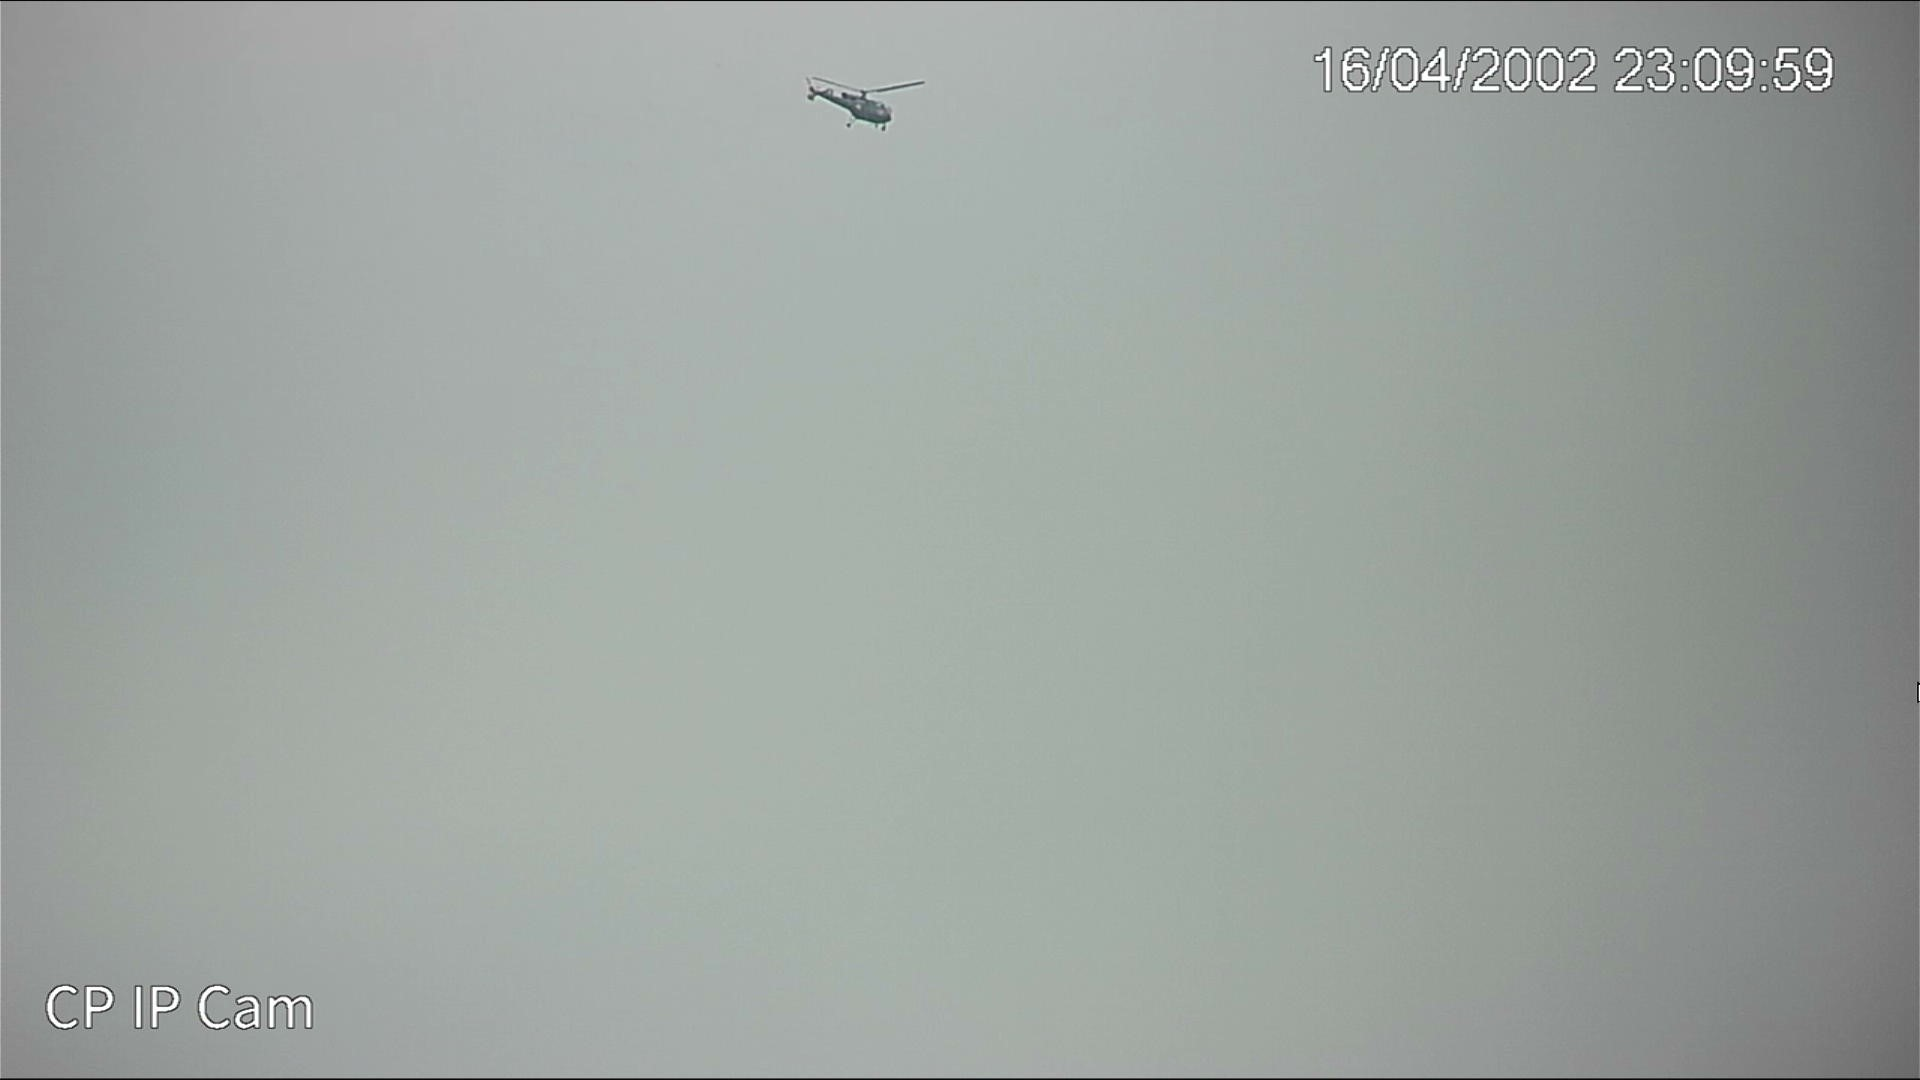SU_30: (796, 73, 905, 135)
